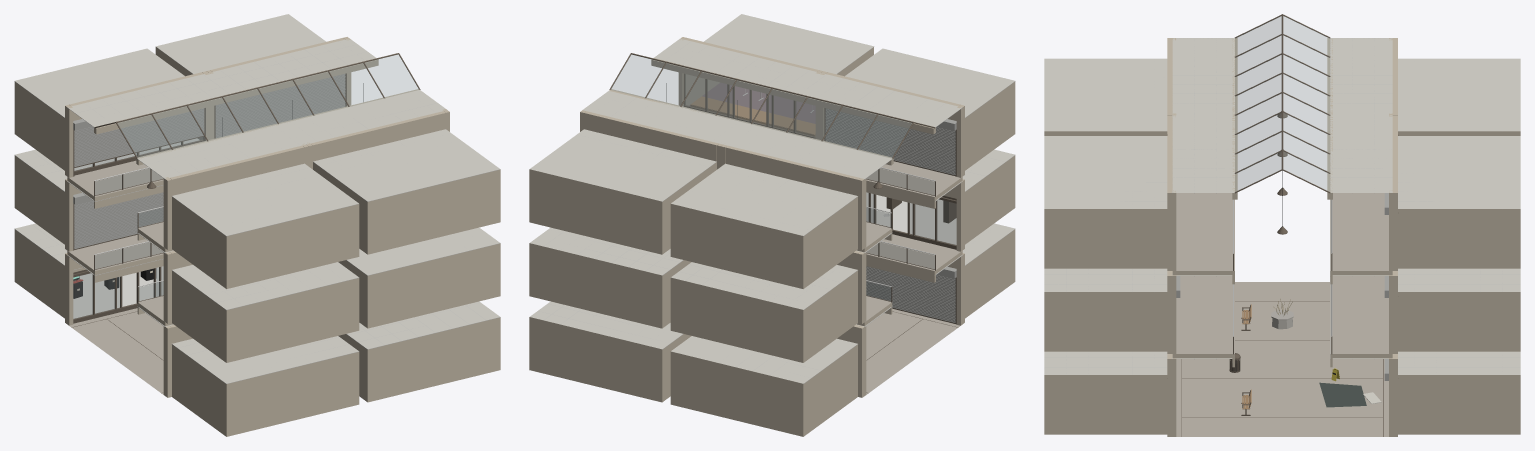
The model's file is concourse_c.glb.
3 views of the same model, side by side, from view 1: azimuth 30°, elevation 25°; view 2: azimuth 150°, elevation 25°; view 3: azimuth 270°, elevation 25° (orthographic). The views are drawn at different scales.
Parts seen in each view (by area): view 1: concourse_c; view 2: concourse_c; view 3: concourse_c.
Boxes of the visible parts, bbox=[...] form: concourse_c: bbox=[14, 14, 500, 436]; concourse_c: bbox=[529, 14, 1015, 436]; concourse_c: bbox=[1044, 14, 1520, 436].
Size of what is drawn, in the model's own units: 20.07 by 16.15 by 26.01.
